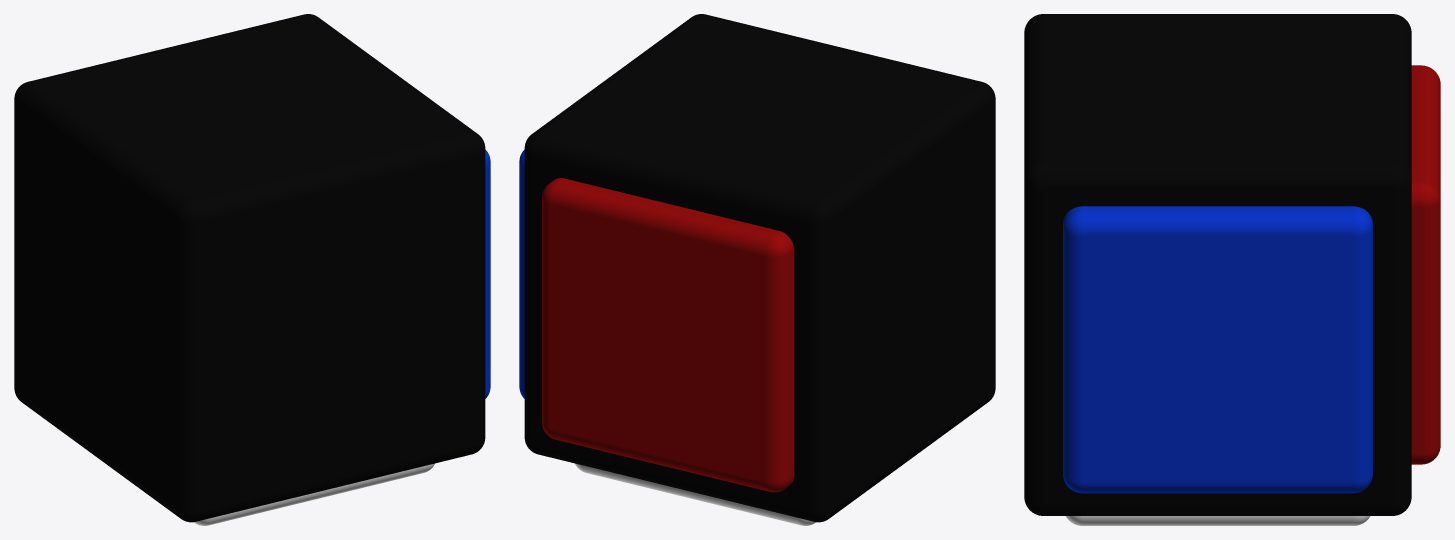
Rendered from cubinho(-1, -1, -1).obj.
3 renders of one model, left to right at view 1: azimuth 30°, elevation 25°; view 2: azimuth 150°, elevation 25°; view 3: azimuth 270°, elevation 25°, orthographic. The views are drawn at different scales.
Parts seen in each view (by area): view 1: (-1,_-1,_-1); view 2: (-1,_-1,_-1); view 3: (-1,_-1,_-1).
Boxes of the visible parts, x1,y1,x2,y2 form: (-1,_-1,_-1): (14,14,490,525); (-1,_-1,_-1): (519,14,995,525); (-1,_-1,_-1): (1024,14,1440,525).
Size of the model in its own units: 2.15 by 2.15 by 2.15.
